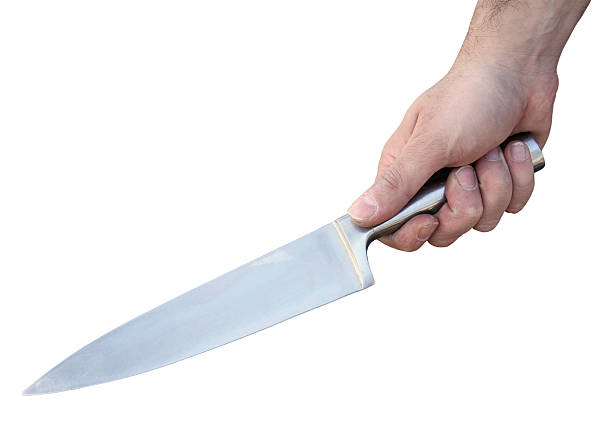knife: (19, 132, 545, 398)
